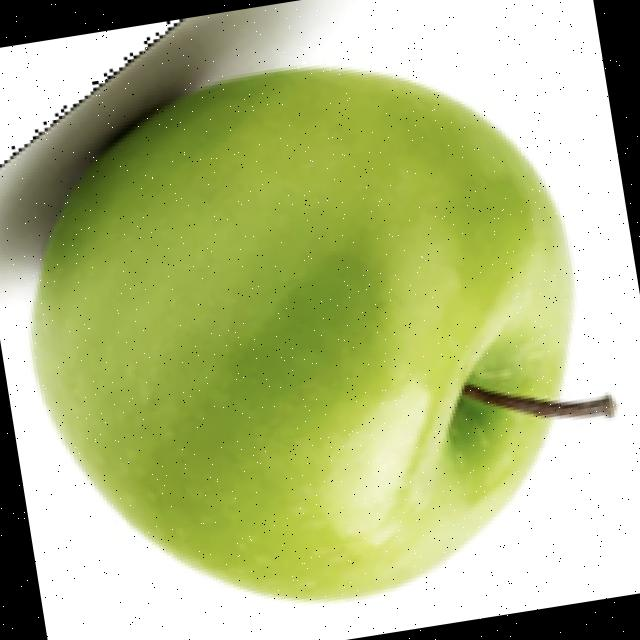apple: (0, 0, 622, 607)
